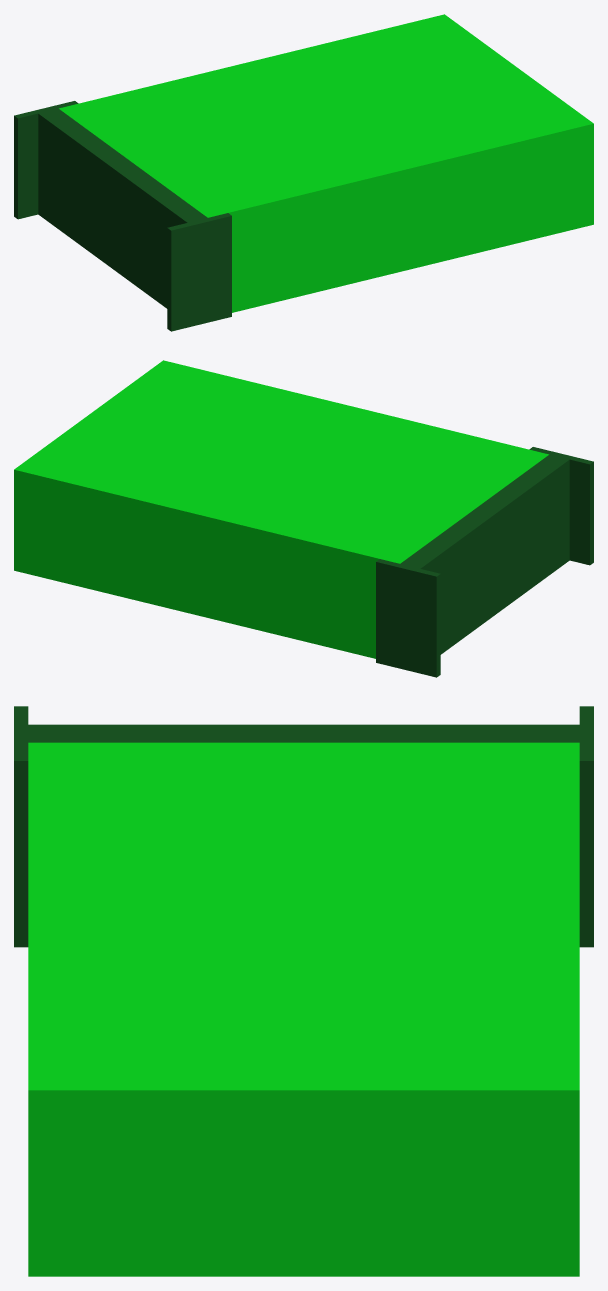
Rendered from battery-block.glb.
3 renders of one model, top to bottom at view 1: azimuth 30°, elevation 25°; view 2: azimuth 150°, elevation 25°; view 3: azimuth 270°, elevation 25°, orthographic. The views are drawn at different scales.
Parts seen in each view (by area): view 1: Cube, Cube.001; view 2: Cube, Cube.001; view 3: Cube, Cube.001.
Boxes of the visible parts, <box> form: Cube: <box>59,14,593,312</box>; Cube.001: <box>14,101,231,331</box>; Cube: <box>14,360,548,658</box>; Cube.001: <box>376,447,593,677</box>; Cube: <box>28,742,579,1276</box>; Cube.001: <box>14,706,593,947</box>.
Size of the model in its own units: 0.21 by 0.0475 by 0.134.
